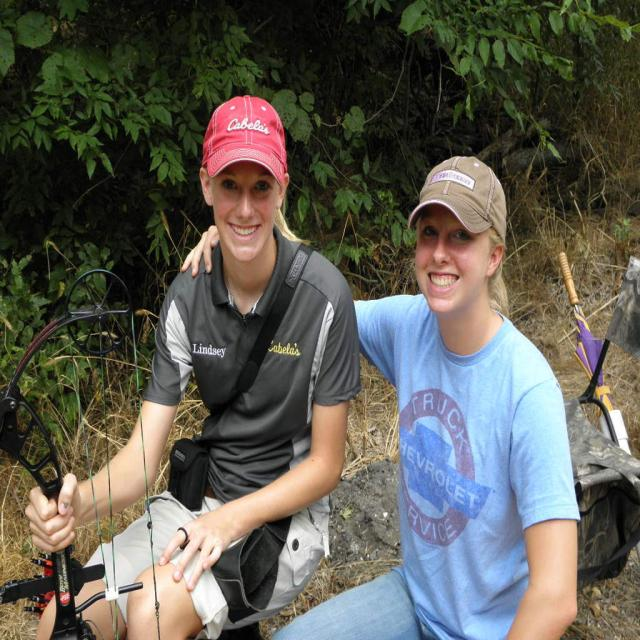Hat: (409, 156, 509, 246), (199, 91, 289, 188)
